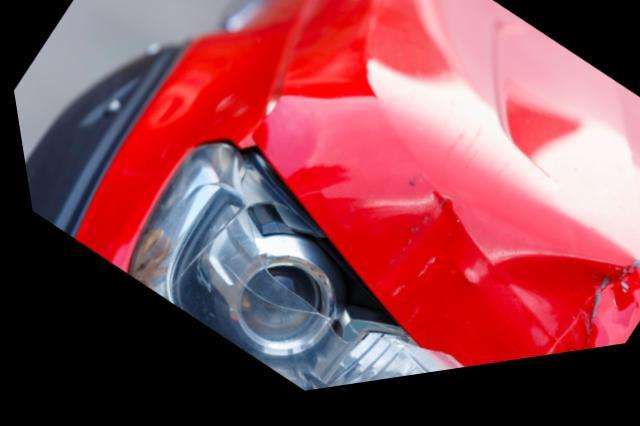dent: (294, 191, 632, 379)
lamp broken: (118, 148, 451, 398)
